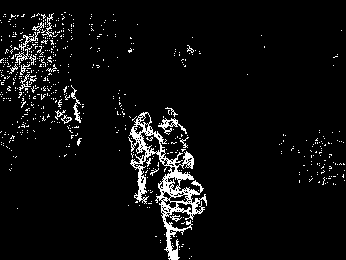person: (159, 152, 208, 260), (128, 110, 158, 203), (157, 106, 193, 174), (56, 85, 85, 147)
